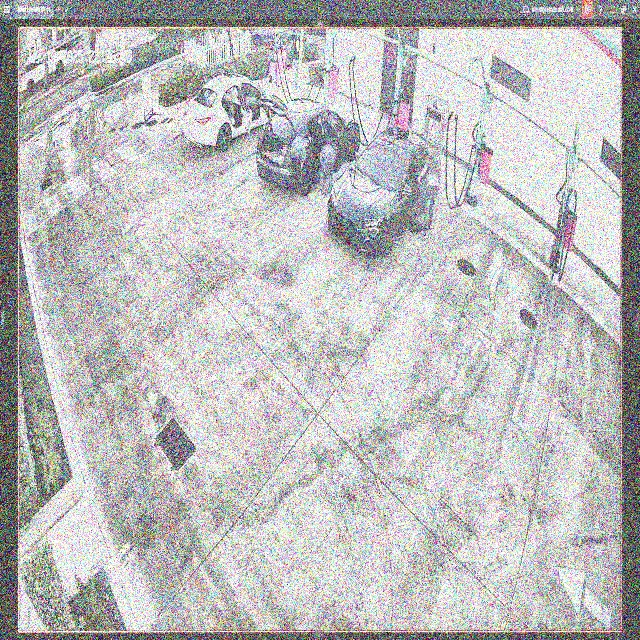Car: (327, 127, 442, 248), (259, 93, 361, 184), (182, 72, 286, 150)
